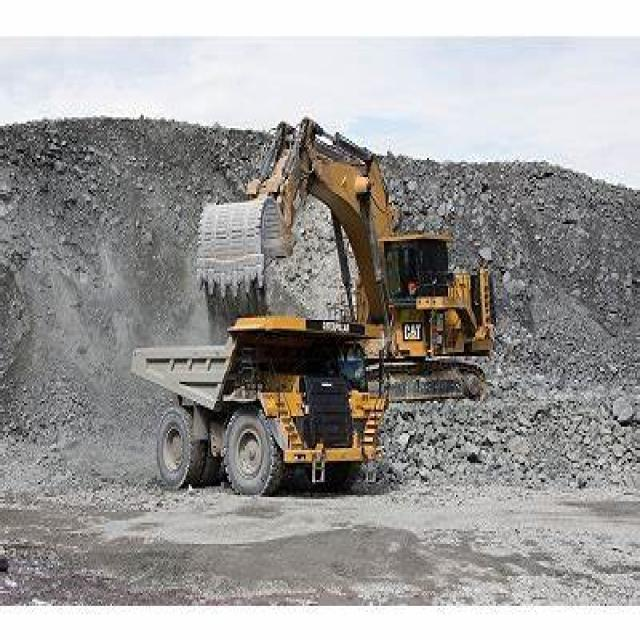dump_truck: (128, 308, 381, 502)
